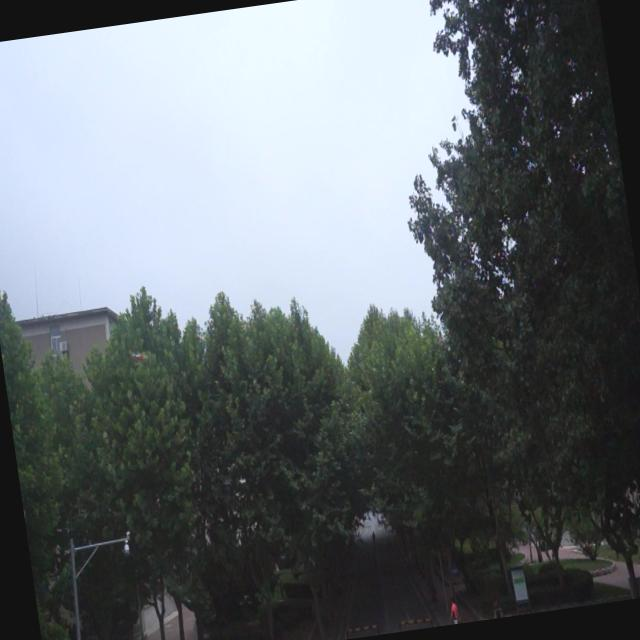drone: (126, 346, 150, 365)
